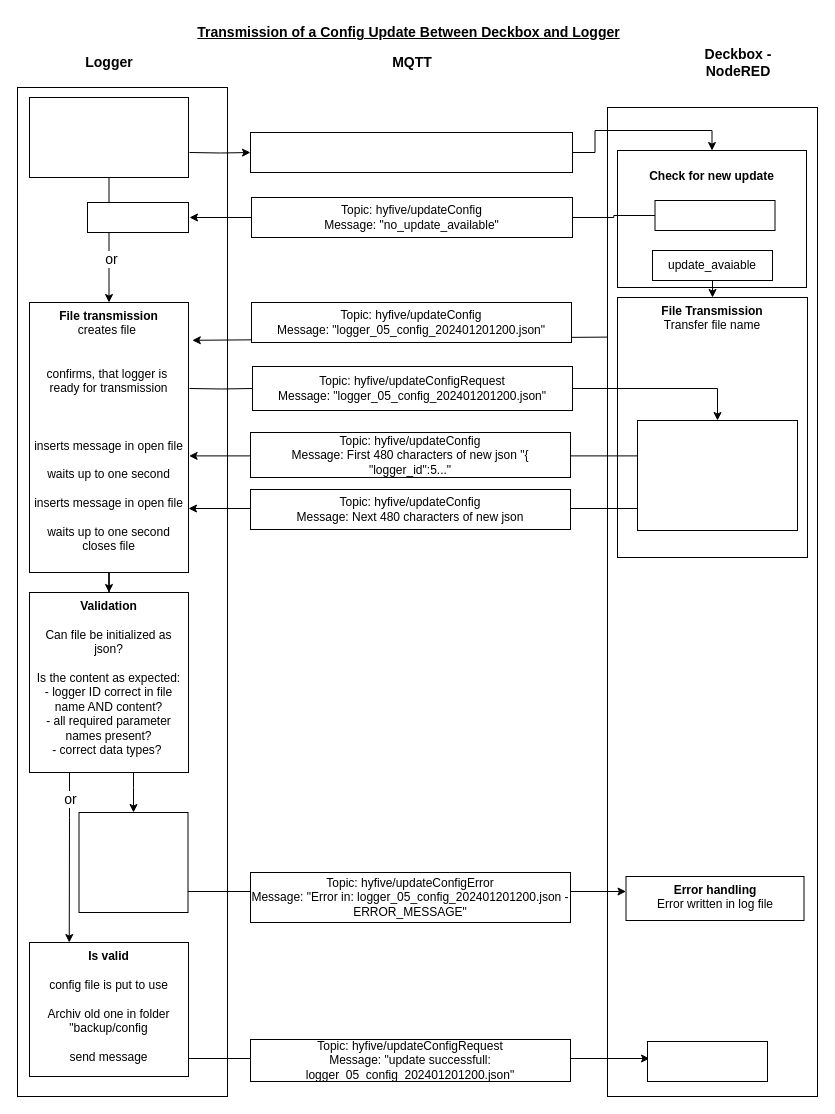
The diagram is 835 pixels wide and 1114 high, and some of its shapes have lost their labels. The shapes that lost their labels are listed below. From the top down, each one's centre as x and y in pixels, then its label:
point 108,137: Request Wake up every config_update_periode send request
point 411,152: Topic: hyfive/updateConfigRequest Message: "logger_05_config_202309201510.json"
point 137,217: end
point 714,215: no_update_avaiable
point 717,475: transfer the new config file
point 133,862: Is not valid Archiv in folder "backup/config_error" send message
point 707,1061: No action
